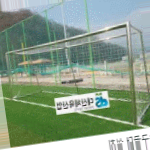goals: (6, 21, 150, 125)
